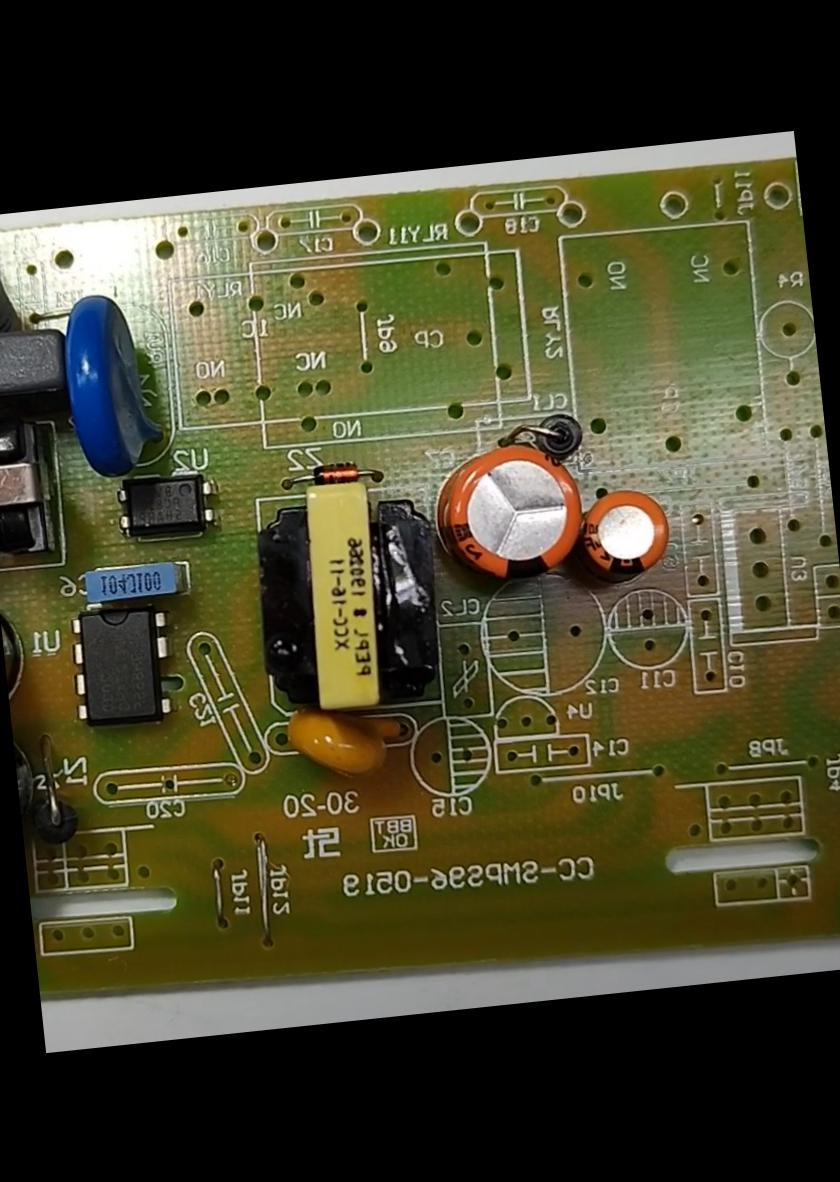Cap1: (424, 423, 594, 602)
Cap2: (564, 479, 692, 588)
Cap4: (10, 708, 82, 880)
MOSFET: (56, 594, 182, 736)
Mov: (44, 280, 178, 490)
Resistor: (0, 231, 30, 334)
Transformer: (241, 467, 457, 729), (0, 399, 68, 575)
